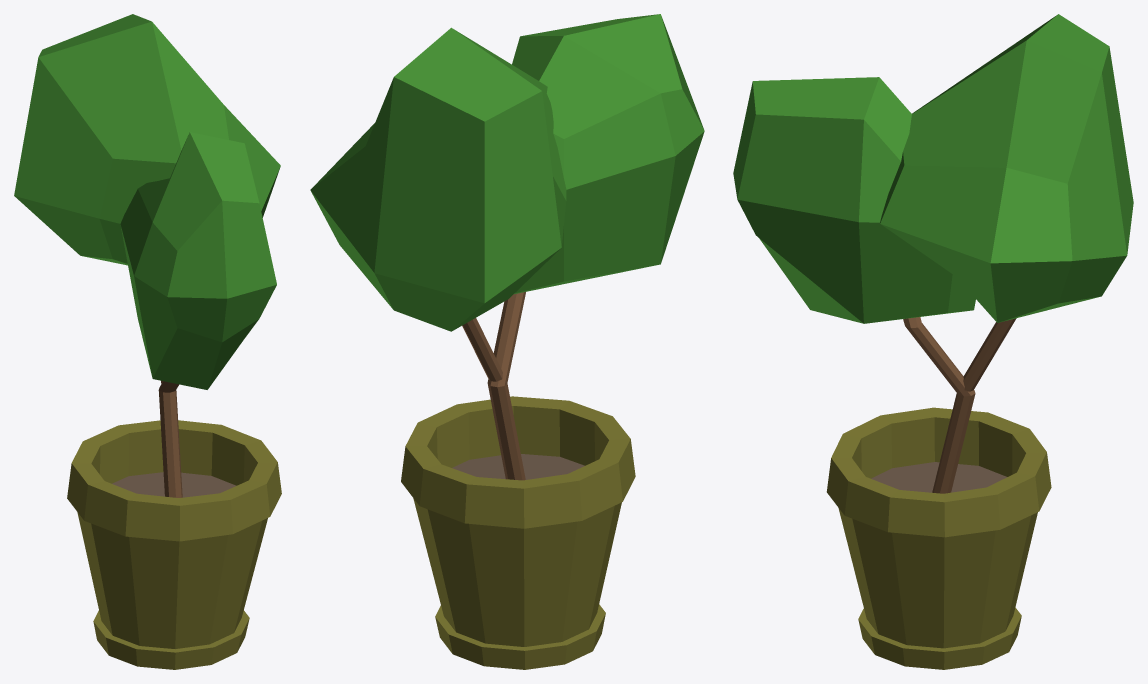
The model's file is Plant_1.fbx.
3 renders of one model, left to right at view 1: azimuth 30°, elevation 25°; view 2: azimuth 150°, elevation 25°; view 3: azimuth 270°, elevation 25°, orthographic. The views are drawn at different scales.
Parts seen in each view (by area): view 1: Plant_1; view 2: Plant_1; view 3: Plant_1.
Boxes of the visible parts, x1=… form: Plant_1: x1=14, y1=14, x2=281, y2=669; Plant_1: x1=310, y1=14, x2=704, y2=669; Plant_1: x1=733, y1=14, x2=1133, y2=669.
Bounding box in the file's own units: 104 × 149 × 249.
